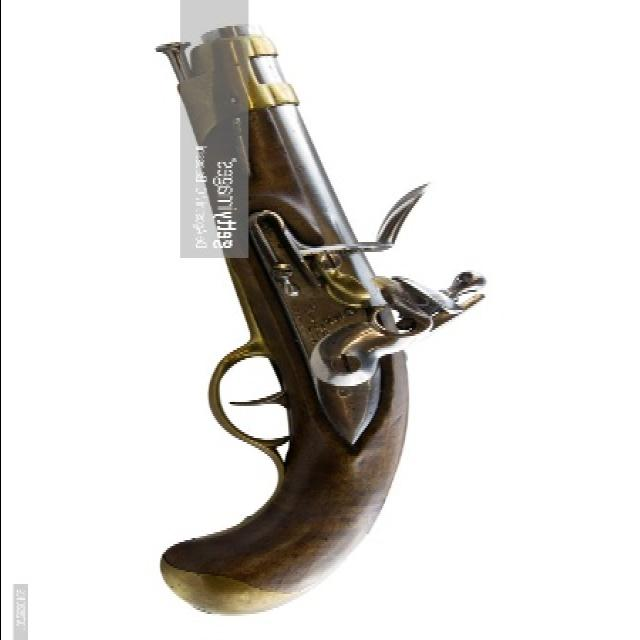handgun: (134, 25, 496, 623)
